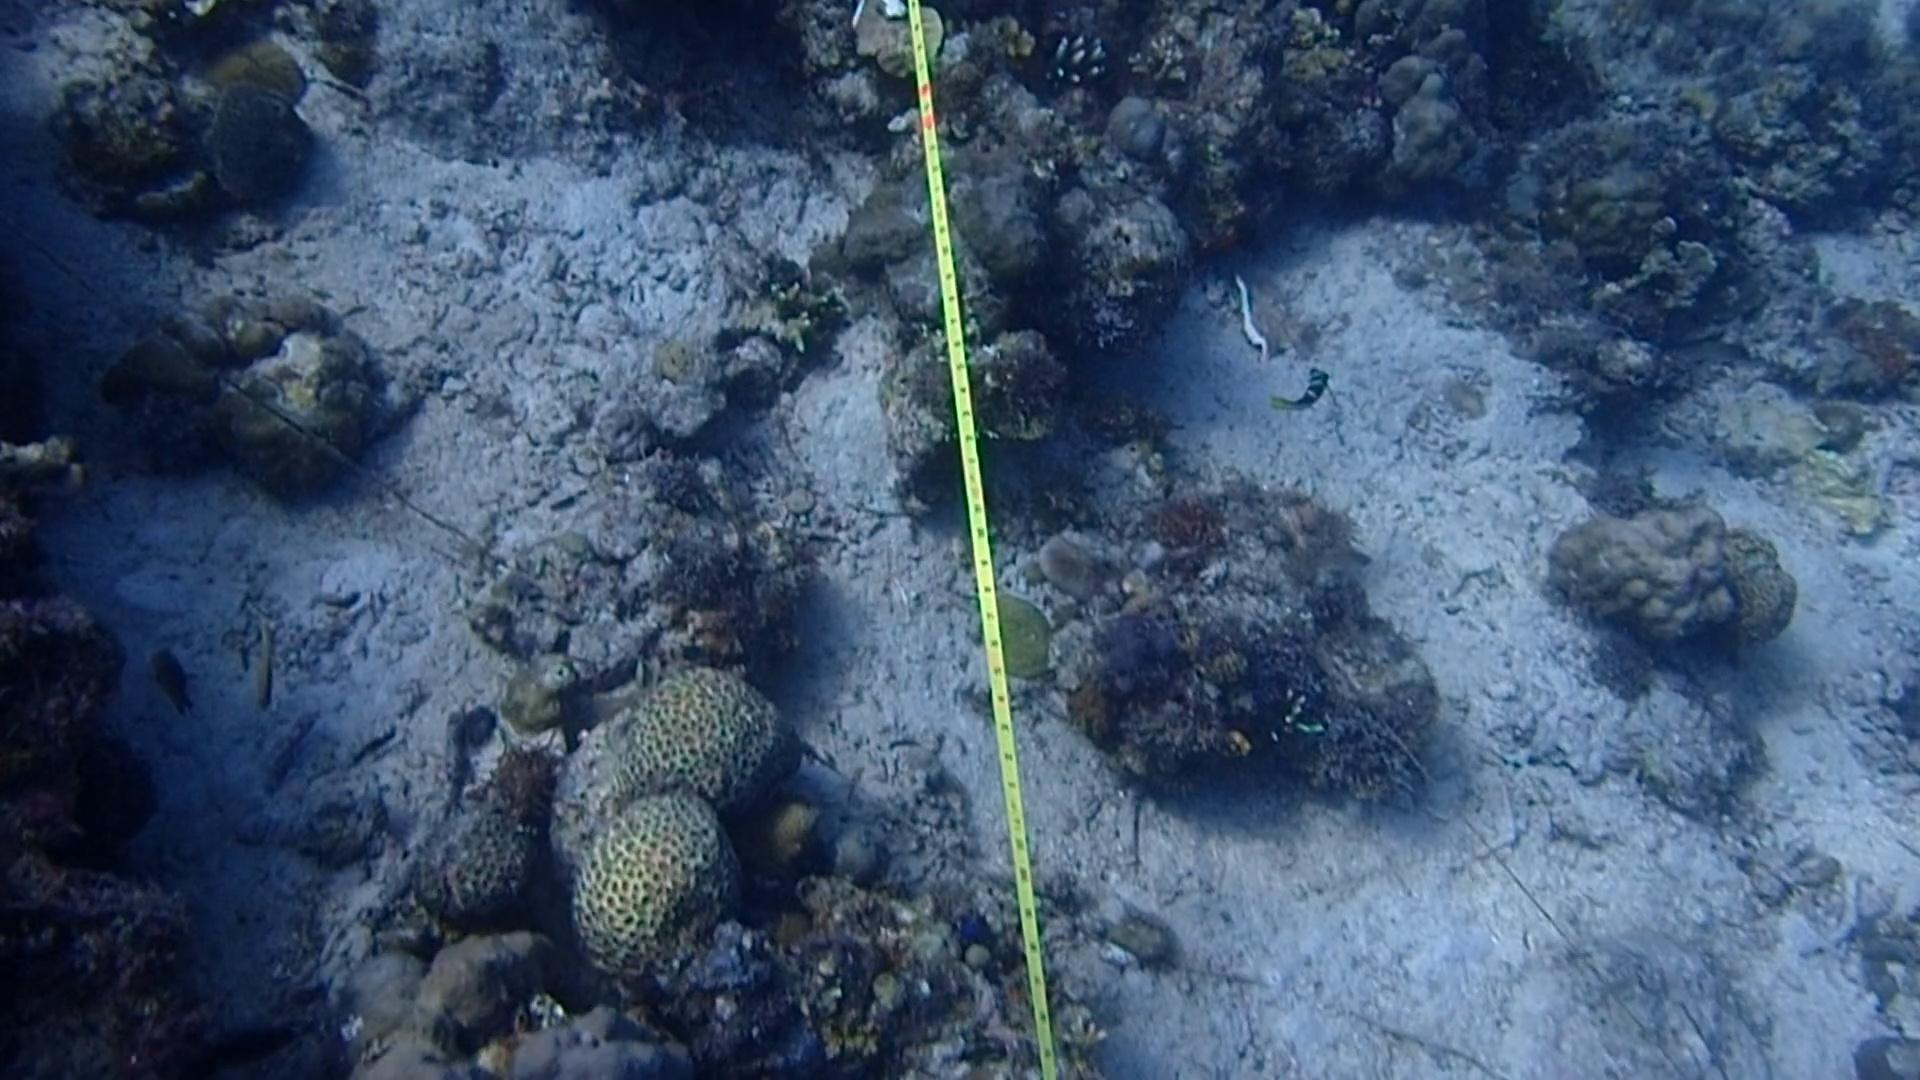Striped Fish: (1263, 357, 1344, 438)
